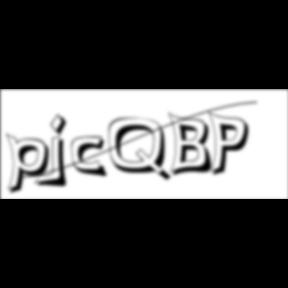B: (168, 111, 218, 179)
P: (208, 110, 256, 180)
Q: (108, 117, 174, 184)
c: (72, 136, 112, 180)
j: (48, 113, 74, 191)
p: (6, 132, 56, 198)
